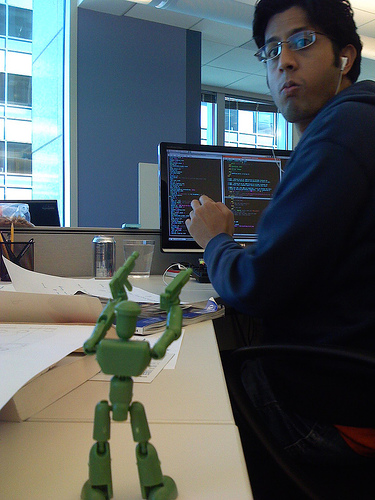without_mask: (260, 7, 356, 120)
